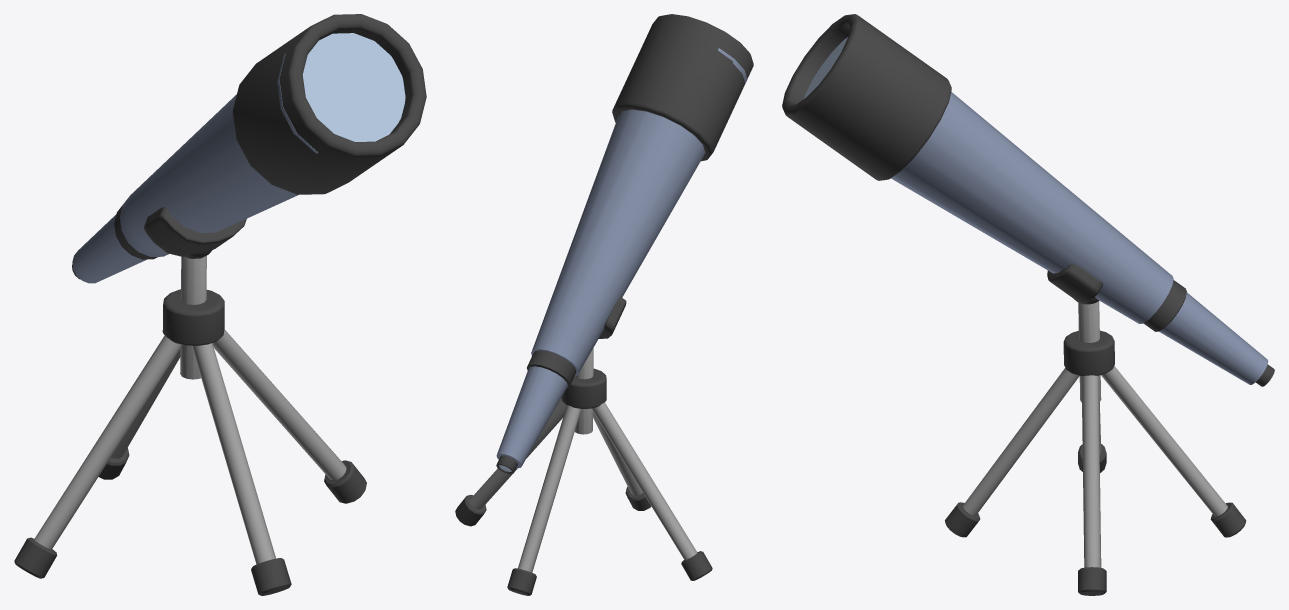
3 renders of one model, left to right at view 1: azimuth 30°, elevation 25°; view 2: azimuth 150°, elevation 25°; view 3: azimuth 270°, elevation 25°, orthographic. The views are drawn at different scales.
Visible parts, largest first — view 1: body, bracket, Merged Geometry, glass, bracket-black, supportpiece; view 2: Merged Geometry, body, bracket, bracket-black, supportpiece; view 3: Merged Geometry, body, bracket, bracket-black, supportpiece.
Boxes of the visible parts, <box> form: body: <box>72,14,426,279</box>; bracket: <box>34,255,346,564</box>; Merged Geometry: <box>72,53,318,283</box>; glass: <box>302,33,405,141</box>; bracket-black: <box>14,249,366,595</box>; supportpiece: <box>143,206,246,256</box>; Merged Geometry: <box>496,48,747,468</box>; body: <box>496,14,753,474</box>; bracket: <box>469,348,697,572</box>; bracket-black: <box>455,368,712,595</box>; supportpiece: <box>598,297,626,338</box>; Merged Geometry: <box>891,92,1268,384</box>; body: <box>782,14,1274,386</box>; bracket: <box>963,301,1227,567</box>; bracket-black: <box>945,297,1246,595</box>; supportpiece: <box>1047,263,1102,304</box>.
Size of the model in its own units: 0.642 by 1.11 by 0.9617.
